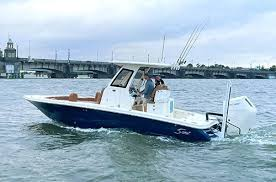boat: (24, 67, 256, 146)
